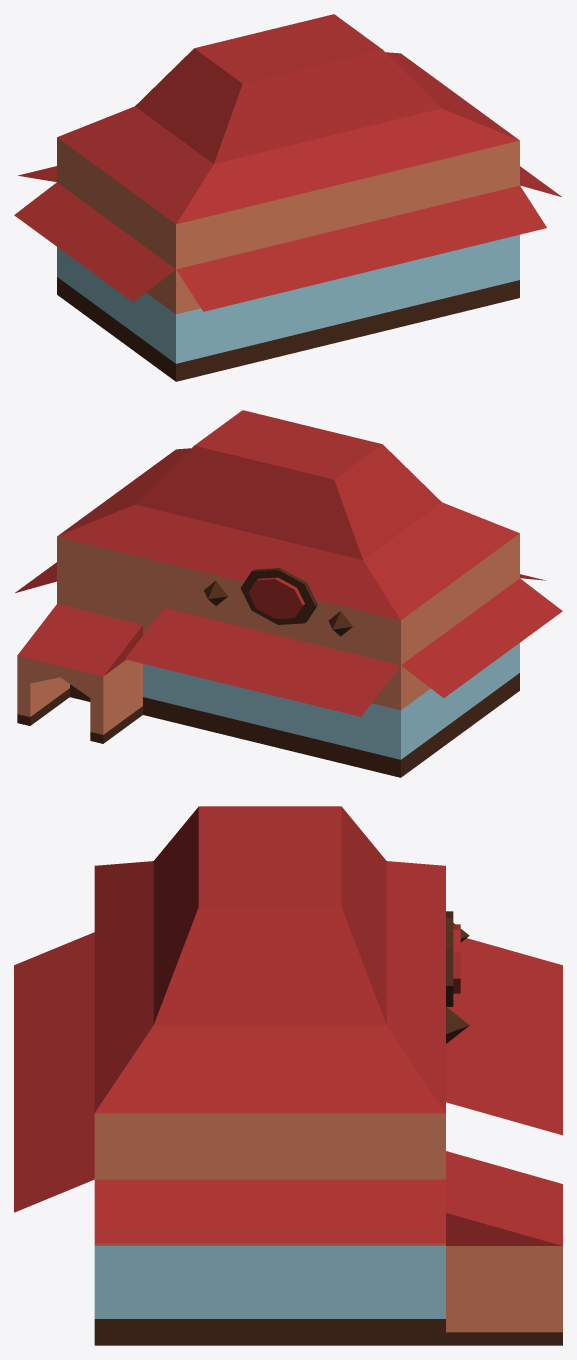
Rendered from xRestaurant.fbx.
The picture shows the model from 3 angles, top to bottom: view 1: azimuth 30°, elevation 25°; view 2: azimuth 150°, elevation 25°; view 3: azimuth 270°, elevation 25°; orthographic projection. The views are drawn at different scales.
Parts seen in each view (by area): view 1: Cube.016, Cube.019; view 2: Cube.016, Cube.019, Cube.022, Cone.024; view 3: Cube.016, Cube.019, Cube.022, Cone.024.
Part boxes in pixels (<box>): Cube.016: <box>57,14,519,381</box>; Cube.019: <box>14,166,561,311</box>; Cube.016: <box>57,410,519,777</box>; Cube.019: <box>15,562,562,716</box>; Cube.022: <box>17,604,142,743</box>; Cone.024: <box>204,568,352,636</box>; Cube.016: <box>94,806,445,1345</box>; Cube.019: <box>14,932,562,1243</box>; Cube.022: <box>446,1151,562,1345</box>; Cone.024: <box>446,911,469,1043</box>.
Bounding box in the file's own units: 10000 × 5500 × 7500.
